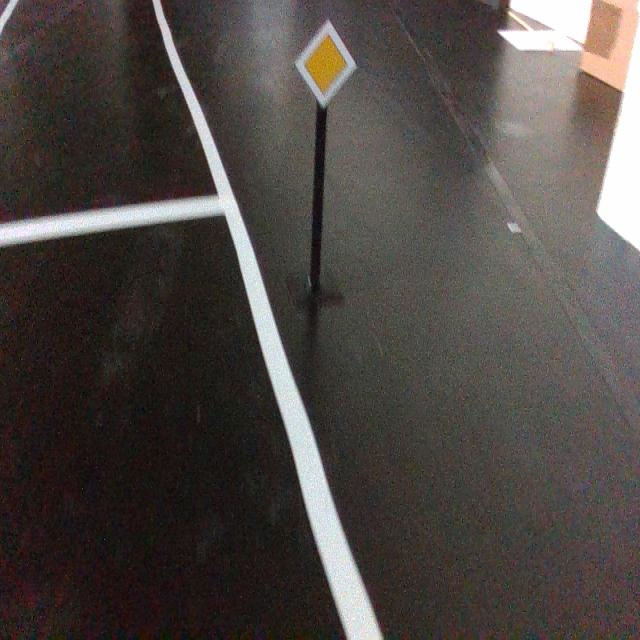priority-sign: (293, 18, 359, 111)
